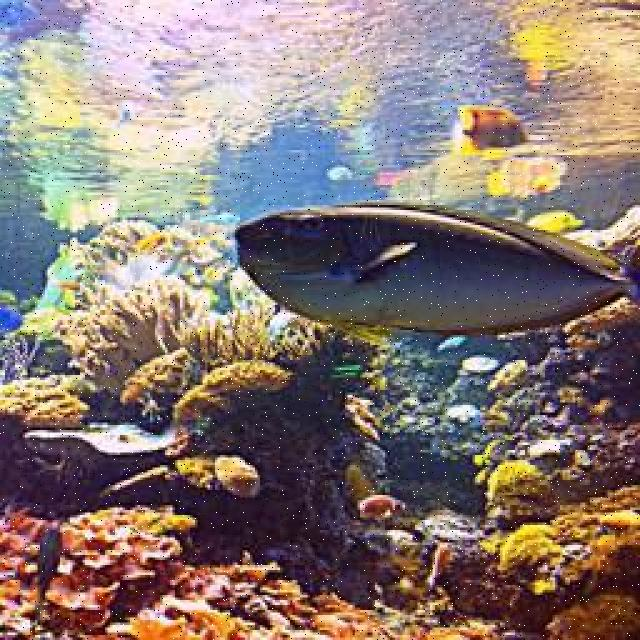fish: (231, 200, 638, 333), (463, 107, 528, 149)
reefs: (0, 220, 392, 428), (0, 508, 507, 638), (479, 461, 638, 637)
